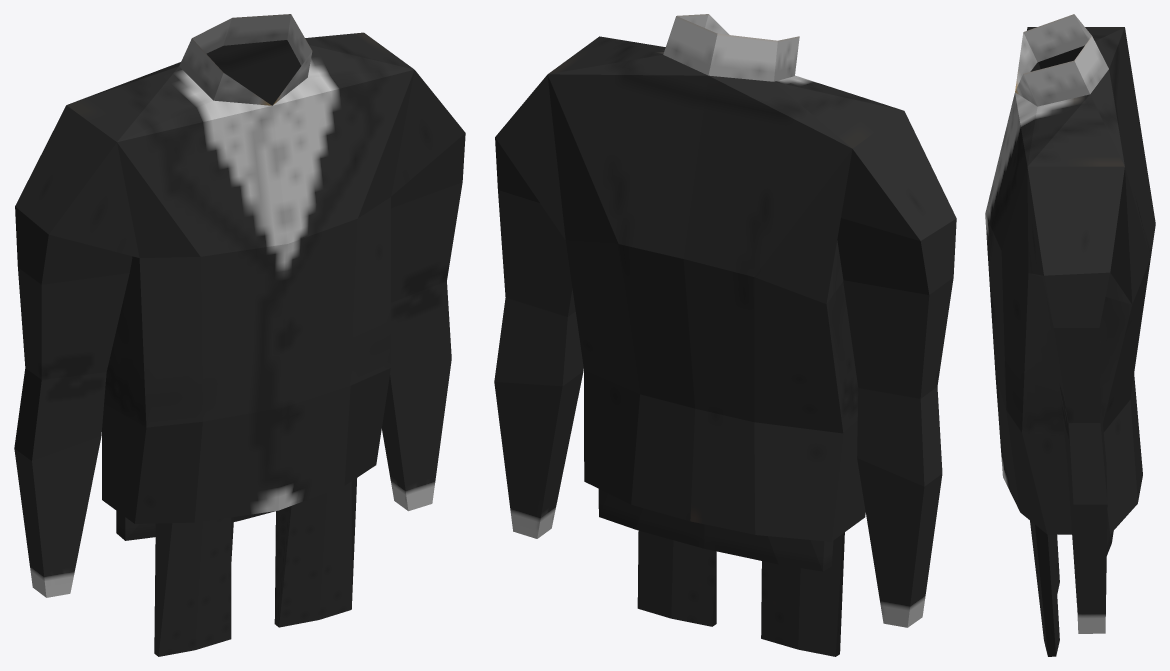
File: SM_Formal.fbx
3 renders of one model, left to right at view 1: azimuth 30°, elevation 25°; view 2: azimuth 150°, elevation 25°; view 3: azimuth 270°, elevation 25°, orthographic. The views are drawn at different scales.
Visible parts, largest first — view 1: Formal; view 2: Formal; view 3: Formal.
Part boxes in pixels (x1=…): Formal: x1=14, y1=14, x2=465, y2=656; Formal: x1=494, y1=14, x2=956, y2=656; Formal: x1=985, y1=14, x2=1155, y2=656.
Bounding box in the file's own units: 0.4373 × 0.5945 × 0.1596.
